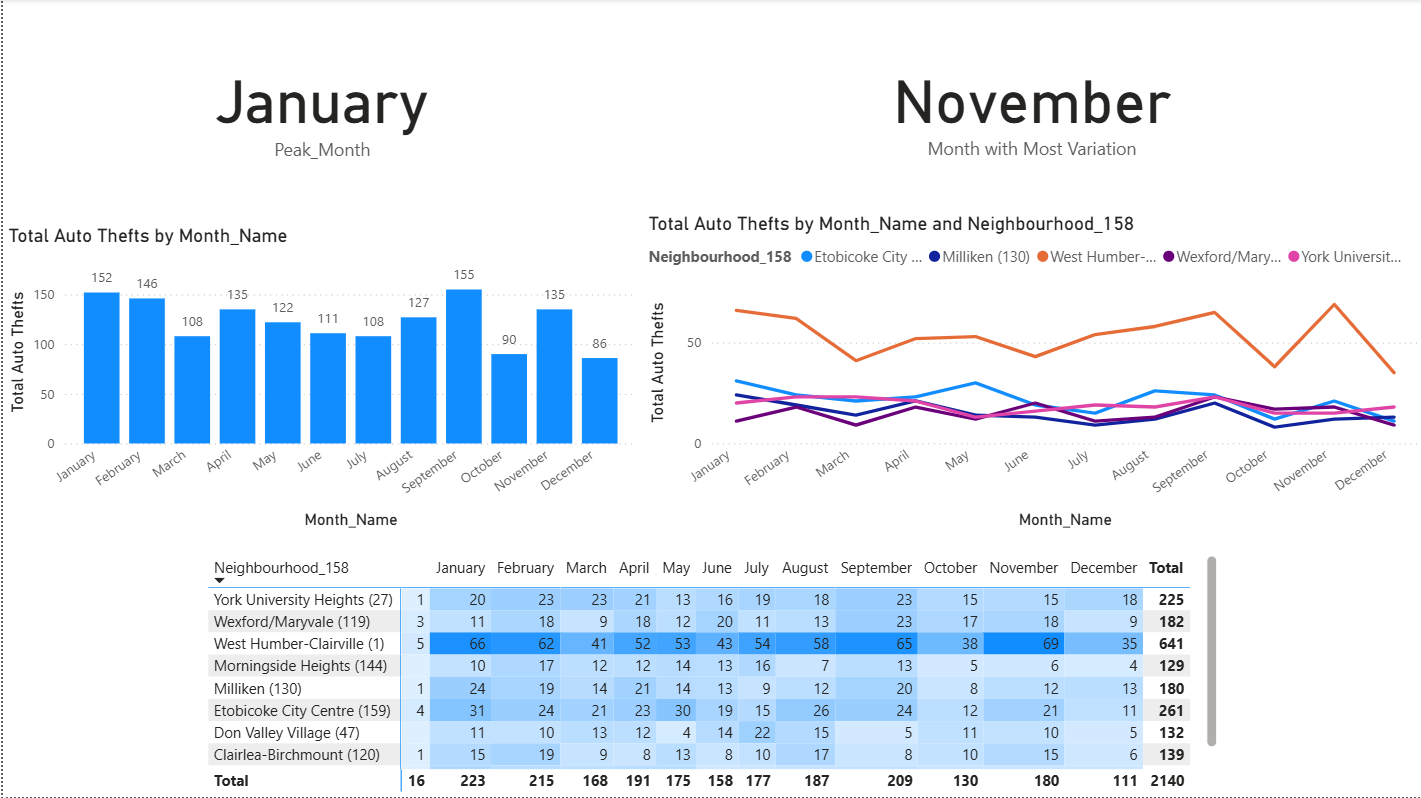

The dashboard page shown, as its layout file describes it:
{"tool":"powerbi","page":{"name":"How do auto theft patterns vary by month, day, and neighborhood in Toronto?","canvas":[1280,720],"ordinal":3},"visuals":[{"type":"columnChart","fields":{"Category":["Ultimate_Calender.Month_Name"],"Y":["Autotheft2024.Total Auto Thefts"]},"box":[0,203,576.2,279.9],"z":0},{"type":"lineChart","fields":{"Category":["Ultimate_Calender.Month_Name"],"Y":["Autotheft2024.Total Auto Thefts"],"Series":["Dim_Neighbourhood.Neighbourhood_158"]},"box":[576.5,192.6,704.1,289.6],"z":1000},{"type":"pivotTable","fields":{"Rows":["Dim_Neighbourhood.Neighbourhood_158"],"Columns":["Ultimate_Calender.Month_Name"],"Values":["CountNonNull(Autotheft2024.Object_ID)"]},"box":[180,497.6,919,222.4],"z":2000},{"type":"actionButton","box":[0,0,100,40],"z":3000},{"type":"card","fields":{"Values":["Autotheft2024.Peak_Month"]},"box":[0,0,576.2,193.1],"z":4000},{"type":"card","title":"Percentage change ","fields":{"Values":["Autotheft2024.Month with Most Variation"]},"box":[576,0,704,193],"z":5000}]}

Visuals, with their boxes in screenshot pixels (x1, y1, x2, y2), scaled from the page's 1280x720 canvas onto the 1421x798 screenshot:
columnChart - Ultimate_Calender.Month_Name x Autotheft2024.Total Auto Thefts: l=0, t=225, r=640, b=535
lineChart - Ultimate_Calender.Month_Name x Autotheft2024.Total Auto Thefts: l=640, t=213, r=1420, b=534
pivotTable - Dim_Neighbourhood.Neighbourhood_158 x Ultimate_Calender.Month_Name: l=200, t=552, r=1220, b=797
actionButton: l=0, t=0, r=111, b=44
card - Autotheft2024.Peak_Month: l=0, t=0, r=640, b=214
"Percentage change " card: l=639, t=0, r=1420, b=214
